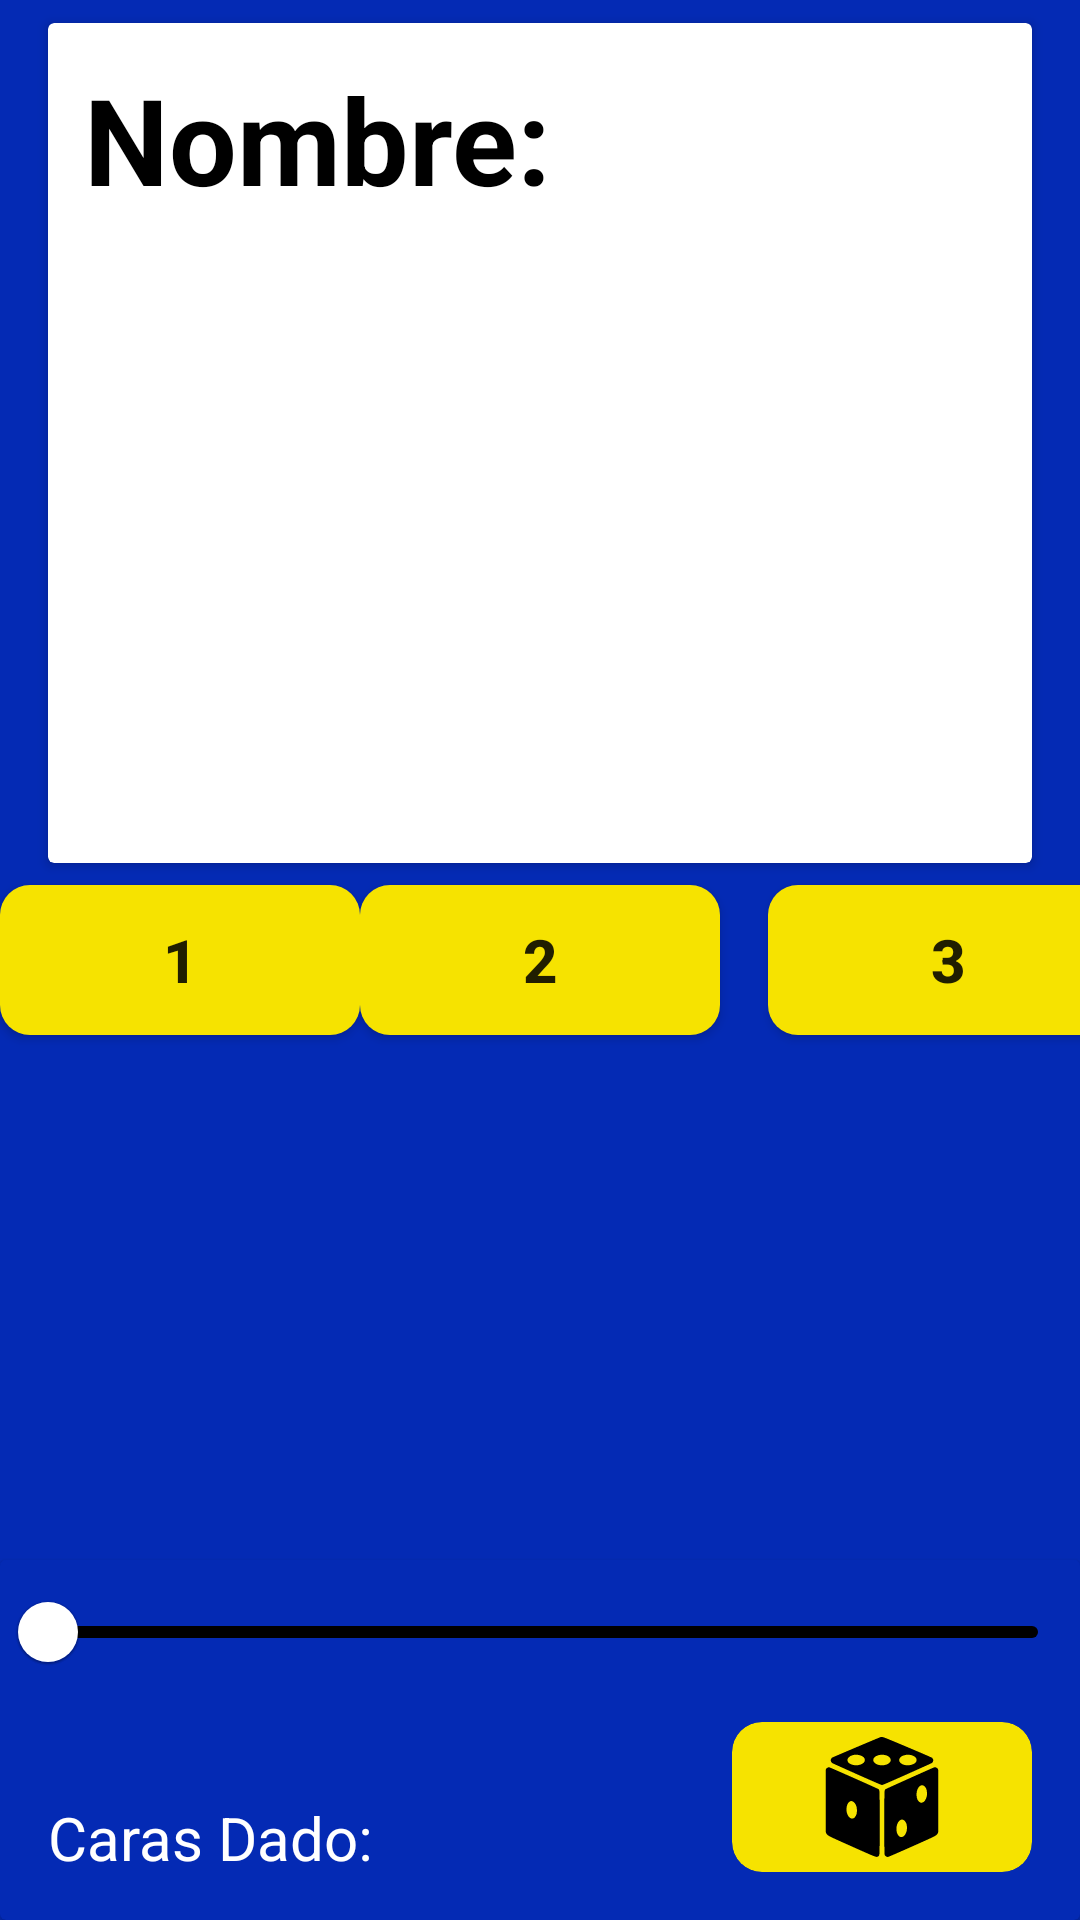

Where icons sit on this 1080 × 1920 app screen, as (x1, y1, x2, y2):
dice: (825, 1737, 939, 1857)
